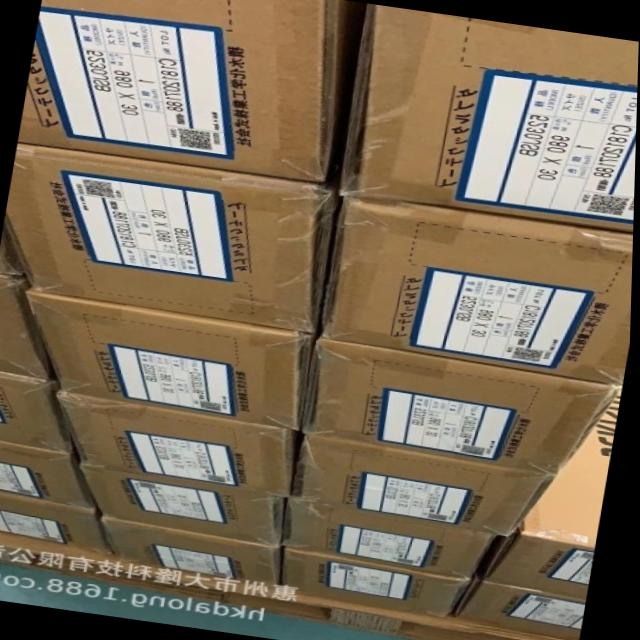box: (343, 5, 639, 233), (10, 143, 341, 333), (321, 189, 635, 384), (20, 0, 346, 182), (303, 335, 618, 477), (25, 290, 313, 429), (486, 384, 620, 601), (296, 431, 556, 536), (61, 391, 301, 494), (285, 495, 511, 582), (81, 459, 291, 545), (285, 546, 480, 618), (100, 515, 284, 586), (459, 580, 584, 640), (0, 493, 115, 554), (0, 370, 80, 456), (0, 442, 97, 508), (0, 274, 58, 379), (0, 230, 27, 279)
